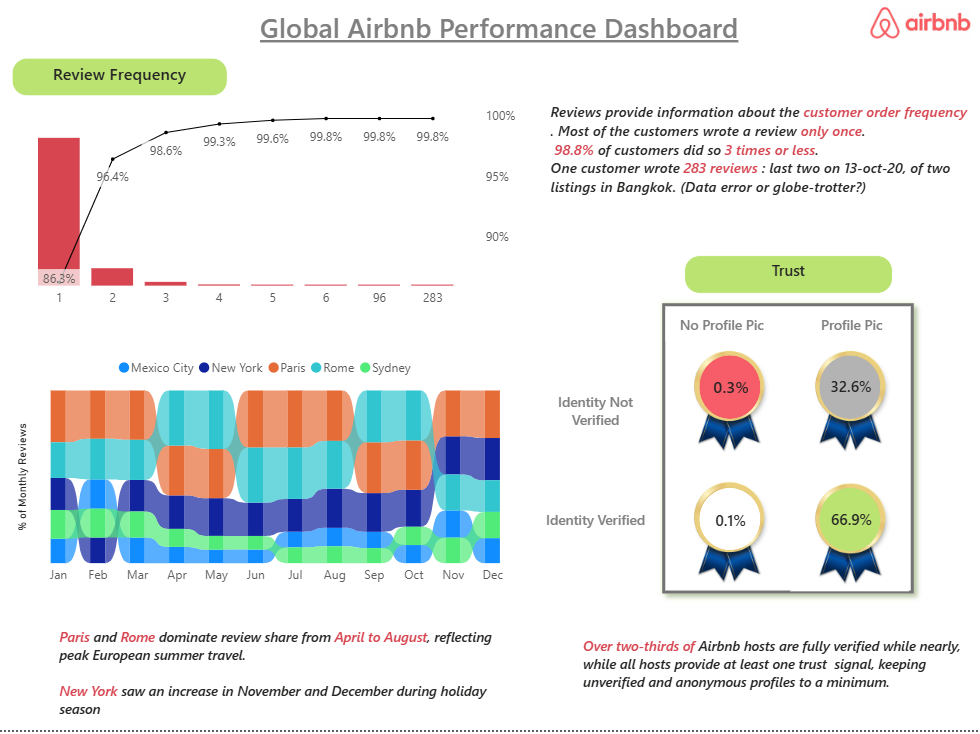

What the dashboard file says about the page in this screenshot:
{"tool":"powerbi","page":{"name":"Reviews","canvas":[960,720],"ordinal":2},"visuals":[{"type":"shape","box":[640.5,294,264.1,302],"z":0},{"type":"textbox","box":[212.5,10,555,52.5],"z":1000},{"type":"image","box":[853.5,9.8,97.8,36.7],"z":2000},{"type":"textbox","box":[13.8,62.5,211.2,37.5],"z":3000},{"type":"textbox","box":[535.6,100.3,424.3,107.6],"z":4000},{"type":"textbox","box":[671.1,256.1,204.2,37.9],"z":6000},{"type":"textbox","box":[567.4,623.6,392.5,74.6],"z":7000},{"type":"lineStackedColumnComboChart","fields":{"Y":["Reviews.Reviewers"],"Category":["Reviews.Reviews per reviewerr"],"Y2":["Reviews.Cummilative % review frequency"]},"box":[13.5,105.2,498.9,210.3],"z":8000},{"type":"image","box":[654,339.2,121.1,116.2],"z":9000},{"type":"image","box":[772.6,468.8,121.1,116.2],"z":10000},{"type":"image","box":[654,467.6,121.1,116.2],"z":11000},{"type":"image","box":[772.6,339.2,121.1,116.2],"z":12000},{"type":"shape","box":[685.8,353.9,59.9,62.4],"z":13000},{"type":"shape","box":[803.2,353.9,59.9,62.4],"z":14000},{"type":"shape","box":[803.2,483.5,59.9,62.4],"z":15000},{"type":"shape","box":[685.8,483.5,59.9,61.1],"z":16000},{"type":"textbox","box":[653.5,309.4,110.1,29.3],"z":17000},{"type":"textbox","box":[530,500.1,110.1,44],"z":18000},{"type":"textbox","box":[780.7,309.4,110.1,29.3],"z":19000},{"type":"textbox","box":[530,385.2,110.1,46.5],"z":20000},{"type":"ribbonChart","fields":{"Series":["Listings.city"],"Category":["Reviews.Review Month"],"Y":["Reviews.% of Monthly Reviews"]},"box":[13.5,346.1,498.9,240.9],"z":21000},{"type":"textbox","box":[55,615.1,457.3,105.2],"z":22000},{"type":"cardVisual","fields":{"Data":["Listings.Verified_Profile %"]},"box":[787.5,489.1,95.4,47.7],"z":23000},{"type":"cardVisual","fields":{"Data":["Listings.Verified_NoProfile %"]},"box":[673.8,492.8,86.8,42.8],"z":24000},{"type":"cardVisual","fields":{"Data":["Listings.NotVerified_Profile %"]},"box":[787.5,352.2,94.2,59.9],"z":25000},{"type":"cardVisual","fields":{"Data":["Listings.NotVerified_NoProfile %"]},"box":[671.3,359.5,92.9,46.5],"z":26000}]}

Visuals, with their boxes in screenshot pixels (x1, y1, x2, y2), scaled from the page's 960x720 canvas onto the 980x734 screenshot:
shape: (654,300,923,608)
textbox: (217,10,783,64)
image: (871,10,971,47)
textbox: (14,64,230,102)
textbox: (547,102,979,212)
textbox: (685,261,894,300)
textbox: (579,636,979,712)
lineStackedColumnComboChart - Reviews.Reviewers x Reviews.Reviews per reviewerr: (14,107,523,322)
image: (668,346,791,464)
image: (789,478,912,596)
image: (668,477,791,595)
image: (789,346,912,464)
shape: (700,361,761,424)
shape: (820,361,881,424)
shape: (820,493,881,557)
shape: (700,493,761,555)
textbox: (667,315,780,345)
textbox: (541,510,653,555)
textbox: (797,315,909,345)
textbox: (541,393,653,440)
ribbonChart - Listings.city x Reviews.Review Month: (14,353,523,598)
textbox: (56,627,523,733)
cardVisual - Listings.Verified_Profile %: (804,499,901,547)
cardVisual - Listings.Verified_NoProfile %: (688,502,776,546)
cardVisual - Listings.NotVerified_Profile %: (804,359,900,420)
cardVisual - Listings.NotVerified_NoProfile %: (685,366,780,414)
